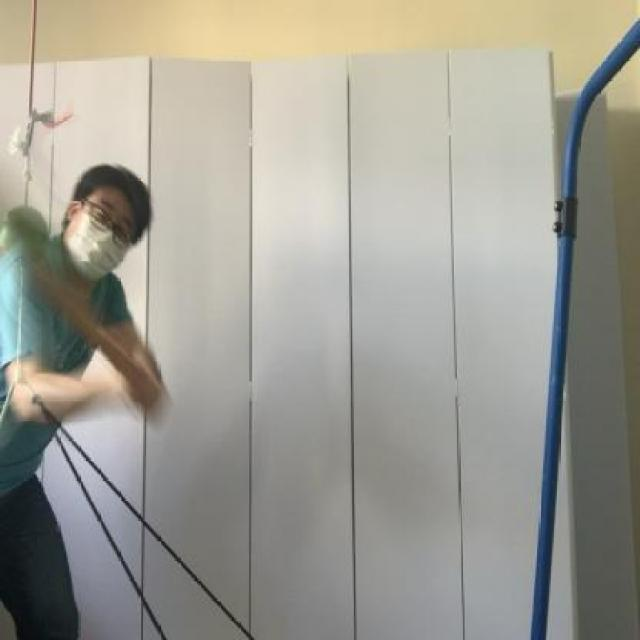baseball: (0, 190, 54, 268)
